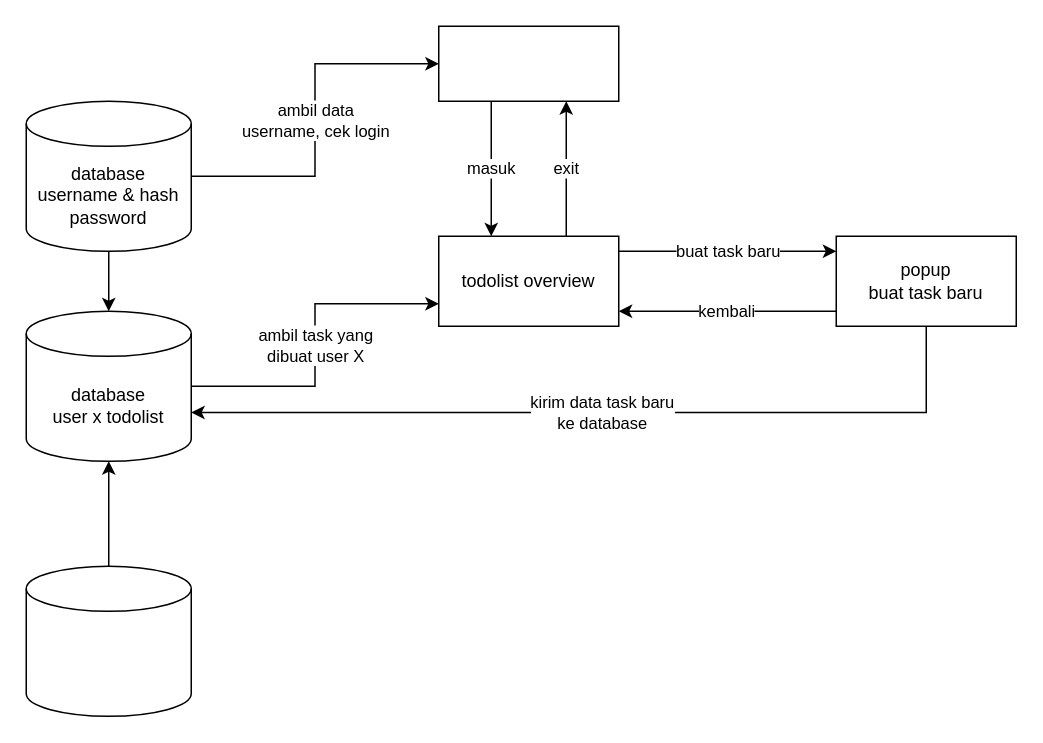
Image size: 1043x743. Some labels were removed from this diagram. Here are the shapes that lost their labels. From the top down, the centre of each, then its label:
At (x=528, y=63): "login form".
At (x=108, y=640): "tasks".
